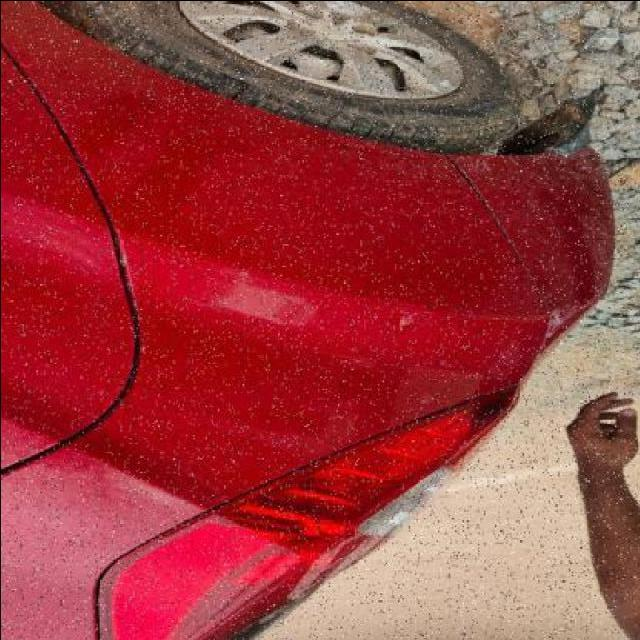rear-bumper-dent: (485, 80, 618, 324)
